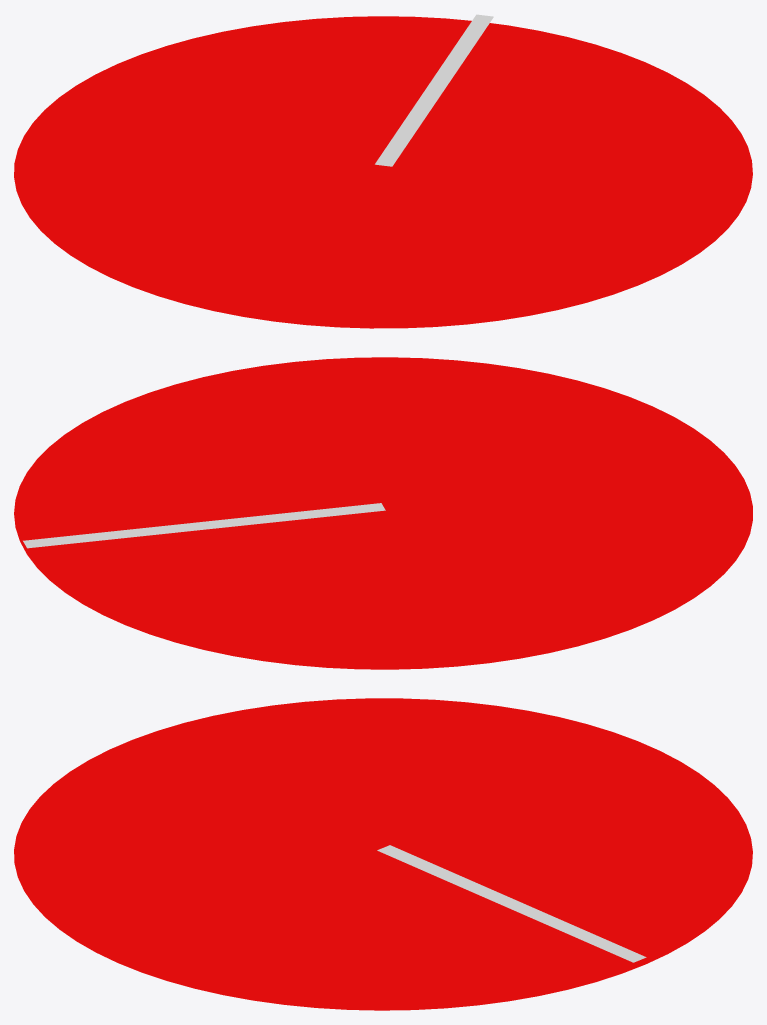
The model's file is result.glb.
3 renders of one model, top to bottom at view 1: azimuth 30°, elevation 25°; view 2: azimuth 150°, elevation 25°; view 3: azimuth 270°, elevation 25°, orthographic.
Parts seen in each view (by area): view 1: 18454e3d-ab73-46c2-a553-b4d5a343e097__Circle, e8b037dd-f01d-439b-8aa9-39bf3abf401b__Plane_1; view 2: 18454e3d-ab73-46c2-a553-b4d5a343e097__Circle, e8b037dd-f01d-439b-8aa9-39bf3abf401b__Plane_1; view 3: 18454e3d-ab73-46c2-a553-b4d5a343e097__Circle, e8b037dd-f01d-439b-8aa9-39bf3abf401b__Plane_1.
Part boxes in pixels (left/top/right/bottom): 18454e3d-ab73-46c2-a553-b4d5a343e097__Circle: left=14, top=16, right=752, bottom=328; e8b037dd-f01d-439b-8aa9-39bf3abf401b__Plane_1: left=375, top=14, right=493, bottom=166; 18454e3d-ab73-46c2-a553-b4d5a343e097__Circle: left=14, top=357, right=752, bottom=669; e8b037dd-f01d-439b-8aa9-39bf3abf401b__Plane_1: left=23, top=503, right=385, bottom=548; 18454e3d-ab73-46c2-a553-b4d5a343e097__Circle: left=14, top=698, right=752, bottom=1010; e8b037dd-f01d-439b-8aa9-39bf3abf401b__Plane_1: left=377, top=845, right=646, bottom=962.
Bounding box in the file's own units: 99.96 × 1 × 99.97.
